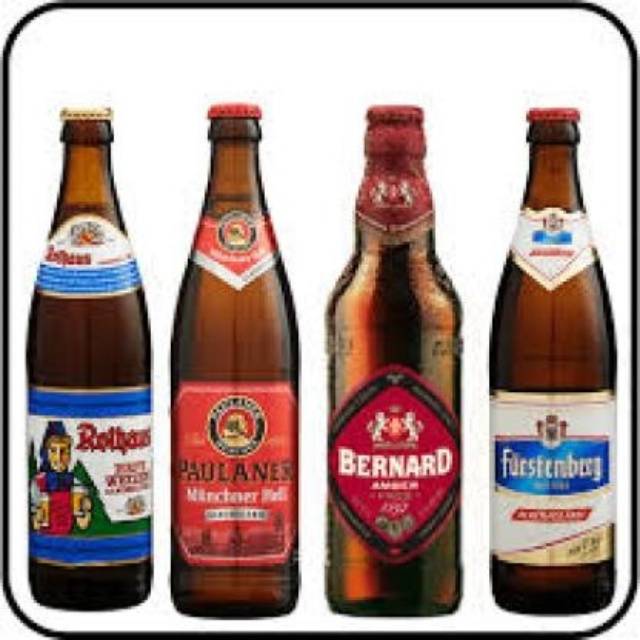trash: (328, 106, 458, 614), (172, 103, 297, 615), (491, 108, 614, 612), (28, 109, 151, 608)
